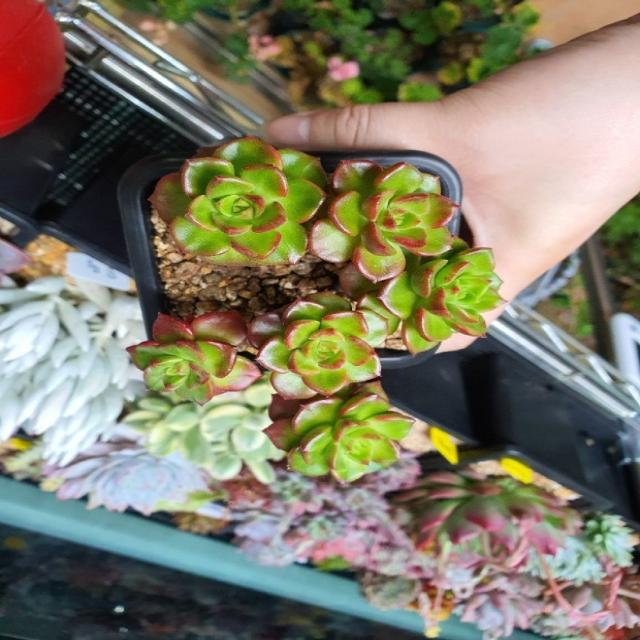Letizia: (151, 138, 325, 265), (308, 160, 457, 281), (247, 291, 387, 399), (265, 382, 413, 482), (378, 239, 503, 351), (128, 311, 262, 405)
